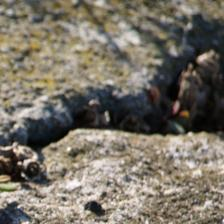Crack: (18, 10, 201, 139)
